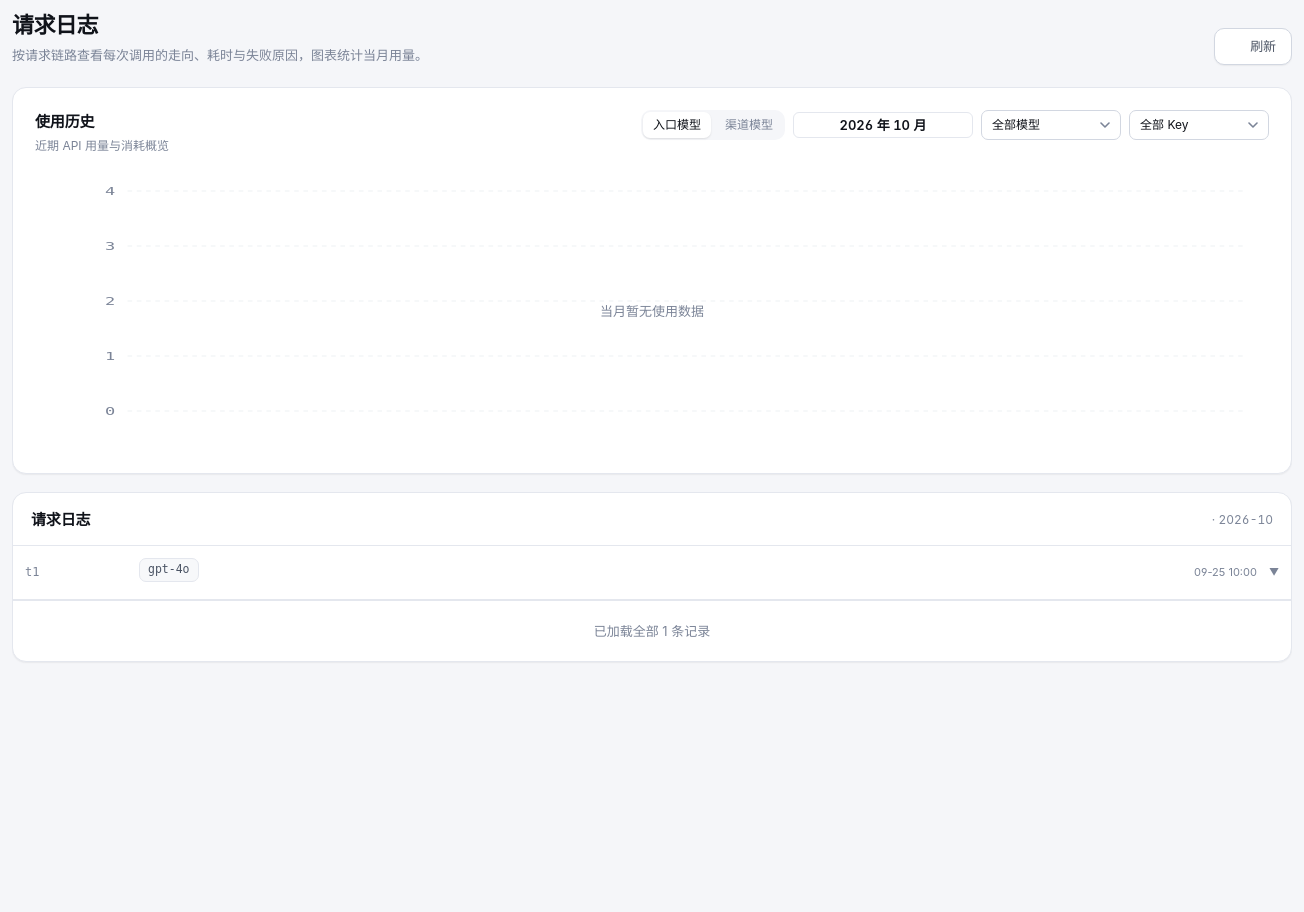
Test: 请求日志页 - 性能重构回归 › 展开 trace 后明细行展示预计算的耗时文本
This screenshot has width=1304, height=912.
Click the element with class "log-trace" at (652, 573), box [13,546,1291,600]
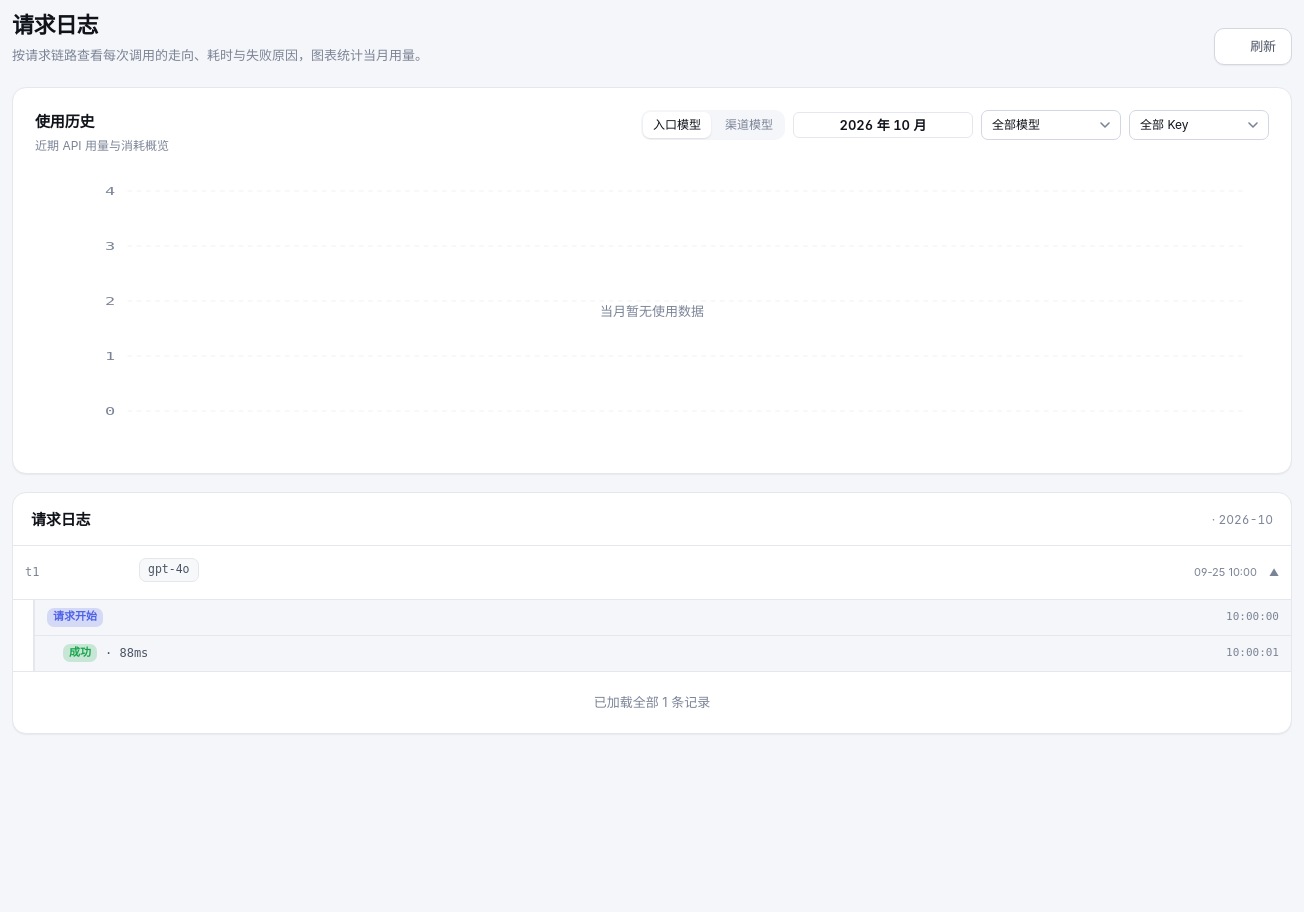
Check: the element with class "log-time" does not show ""
Check: the number of elements with class "log-entry" is 2, box [35,600,1291,635]; [63,644,1279,662]
Check: the element with class "log-entry" shows "88ms", box [105,645,148,659]
